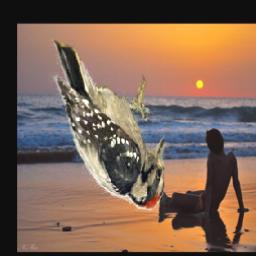Woodpecker: (43, 34, 164, 213)
